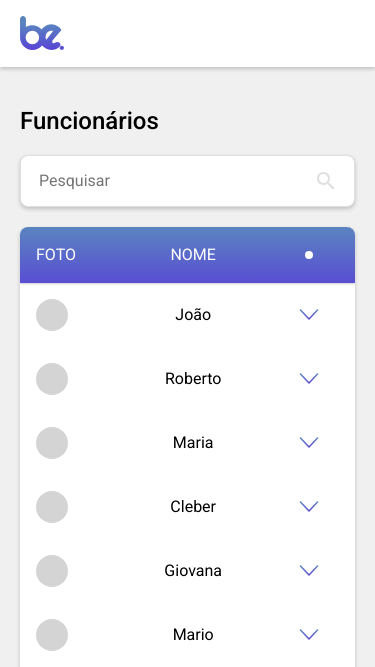
Test: HOME › should correctly search employee by its name on mobile
The image size is (375, 667).
Type "joao" into the field with id "search-input" at [176, 181], box [37,168,314,194]
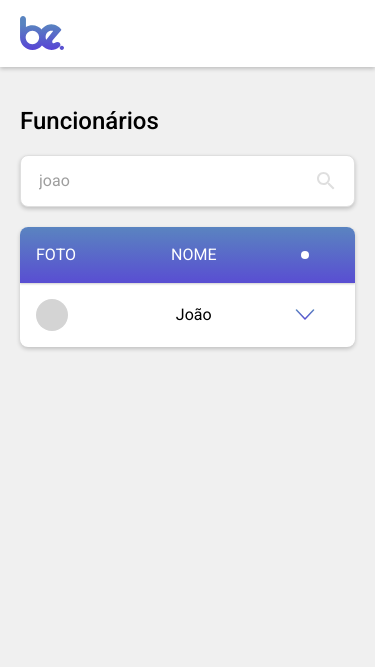
Check: the text "João" is shown, box [133,283,255,347]
Check: the number of rows is 2, box [20,227,355,283]; [20,283,355,347]
